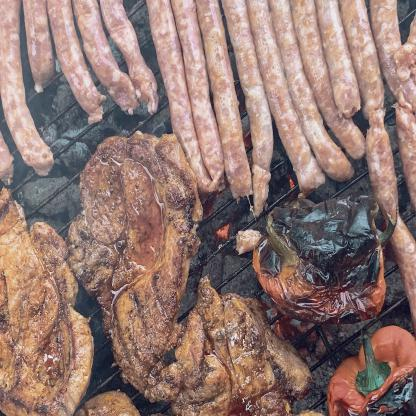Carne: (66, 120, 203, 382), (0, 189, 87, 409), (167, 280, 281, 415)
